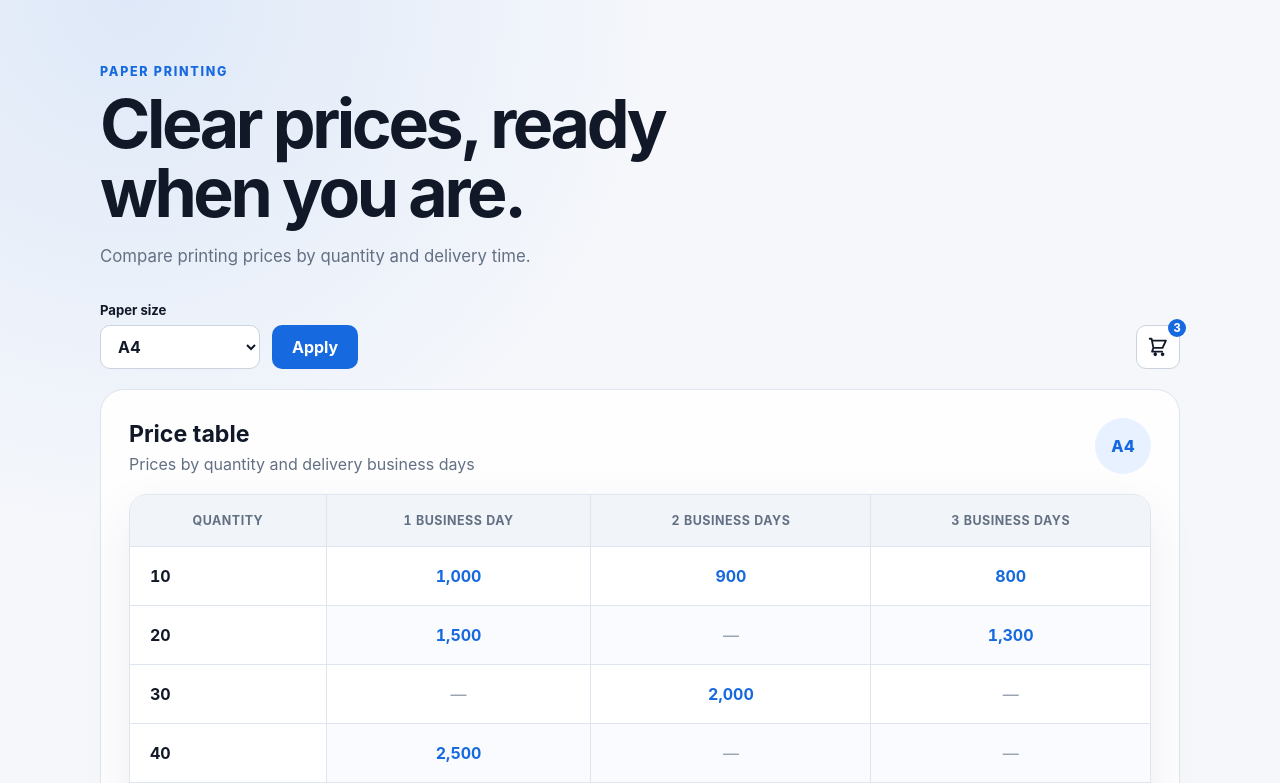
Test: App › restores a valid cart already stored in localStorage on load
Click the button named "View cart" at (1158, 347), box x1=1136 y1=325 x2=1180 y2=369
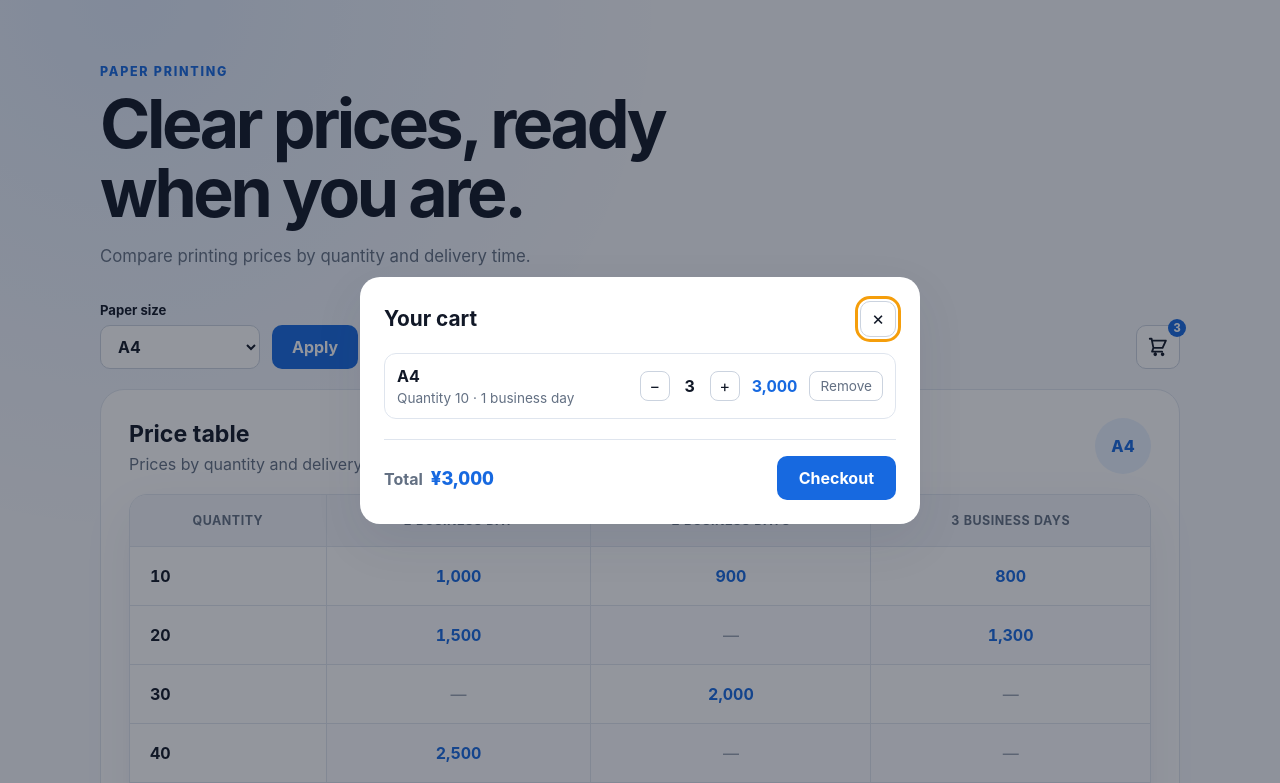
Now the dialog "Your cart" shows "A4", box x1=397 y1=366 x2=420 y2=386
Now the dialog "Your cart" shows "3,000", box x1=752 y1=376 x2=798 y2=396
